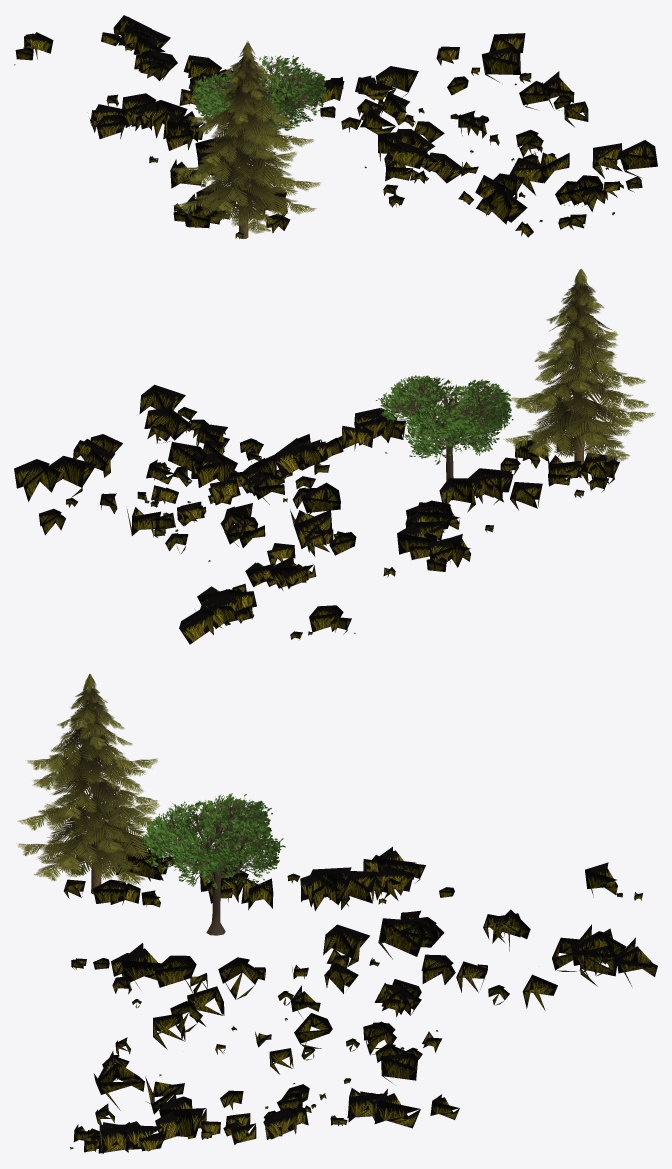
The picture shows the model from 3 angles, top to bottom: view 1: azimuth 30°, elevation 25°; view 2: azimuth 150°, elevation 25°; view 3: azimuth 270°, elevation 25°; orthographic projection. The views are drawn at different scales.
Visible parts, largest first — view 1: Low Poly Stylized 2D Grass; view 2: Low Poly Stylized 2D Grass; view 3: Low Poly Stylized 2D Grass.
Boxes of the visible parts, x1,y1,x2,y2 form: Low Poly Stylized 2D Grass: (14,15,657,238); Low Poly Stylized 2D Grass: (14,269,655,644); Low Poly Stylized 2D Grass: (16,674,657,1153).
Size of the model in its own units: 25.67 by 13.8 by 26.83.
Materials: 5 (4 with a texture image).
